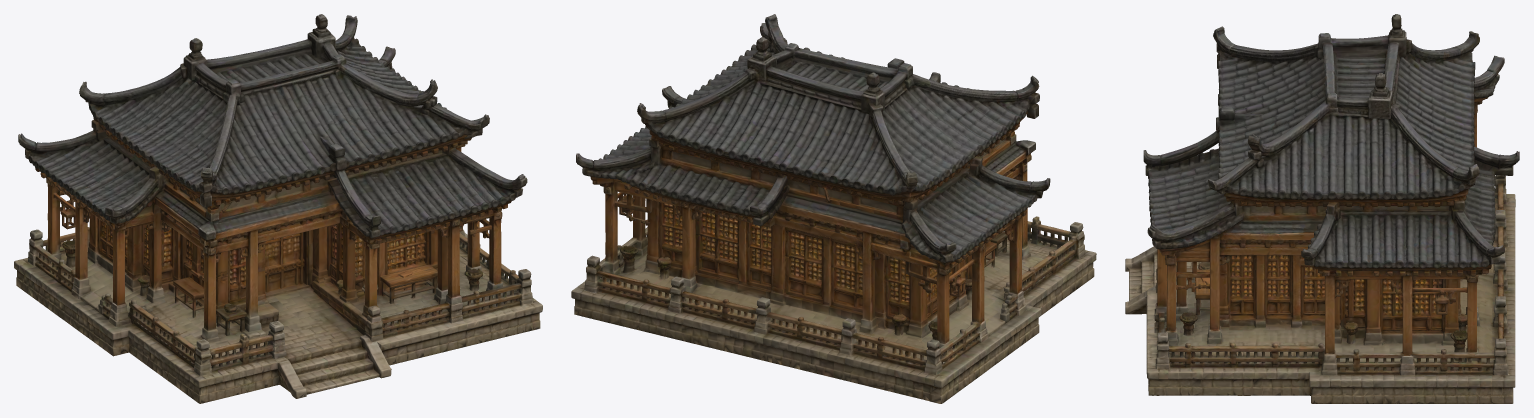
The model's file is han.glb.
3 views of the same model, side by side, from view 1: azimuth 30°, elevation 25°; view 2: azimuth 150°, elevation 25°; view 3: azimuth 270°, elevation 25° (orthographic). The views are drawn at different scales.
Visible parts, largest first — view 1: tripo_node_07a30236-b391-4789-8c49-dbdaebc950fe; view 2: tripo_node_07a30236-b391-4789-8c49-dbdaebc950fe; view 3: tripo_node_07a30236-b391-4789-8c49-dbdaebc950fe.
Boxes of the visible parts, x1,y1,x2,y2 form: tripo_node_07a30236-b391-4789-8c49-dbdaebc950fe: (14,14,542,403); tripo_node_07a30236-b391-4789-8c49-dbdaebc950fe: (571,14,1096,403); tripo_node_07a30236-b391-4789-8c49-dbdaebc950fe: (1125,14,1519,403).
Size of the model in its own units: 0.9794 by 0.6306 by 0.8419.
Materials: 1 (1 with a texture image).
